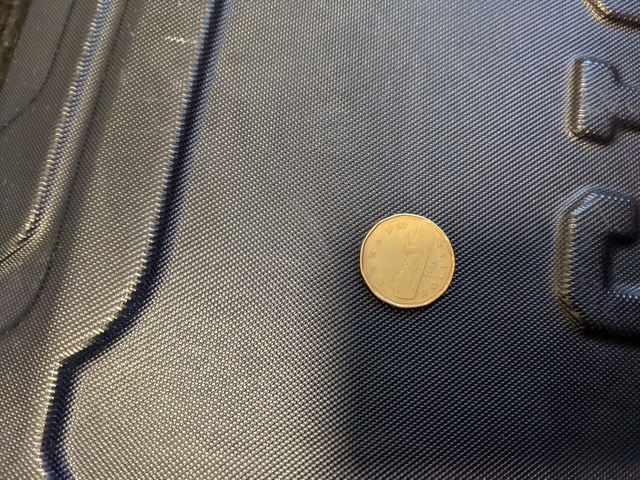loonie: (342, 204, 472, 311)
